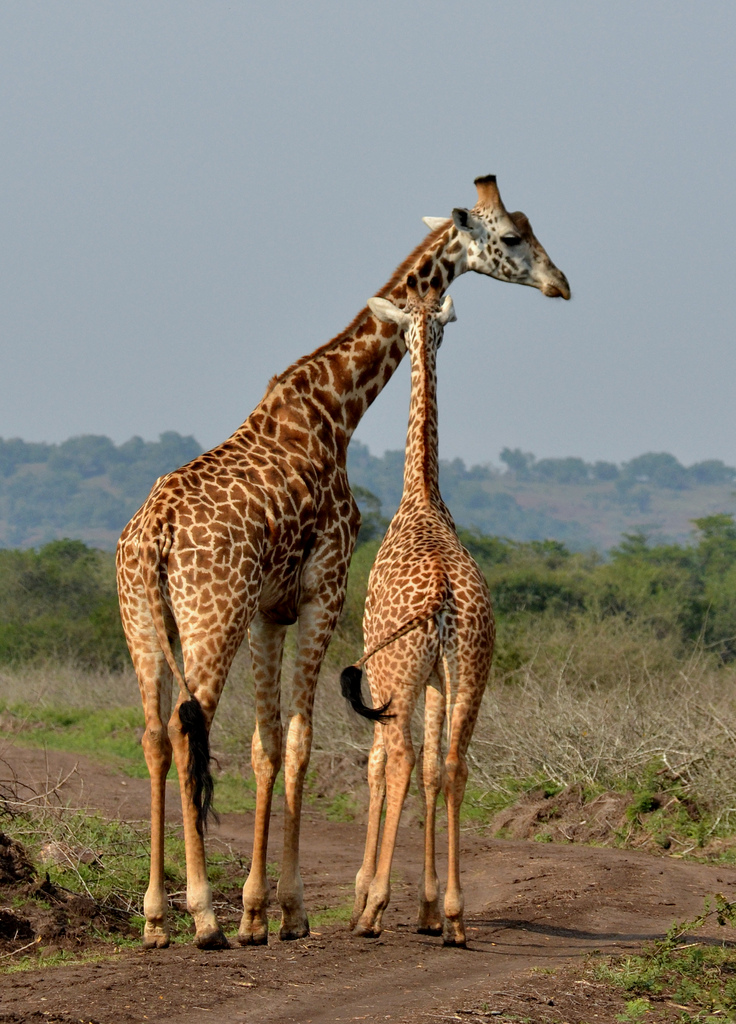giraffe: (94, 160, 565, 951), (358, 267, 508, 960)
